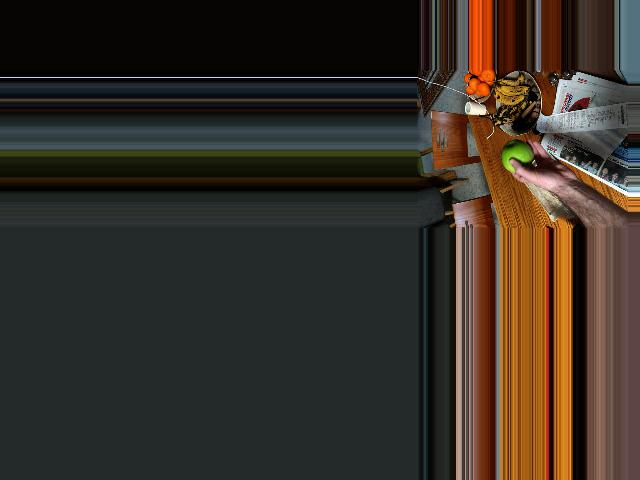apple: (499, 139, 539, 175)
